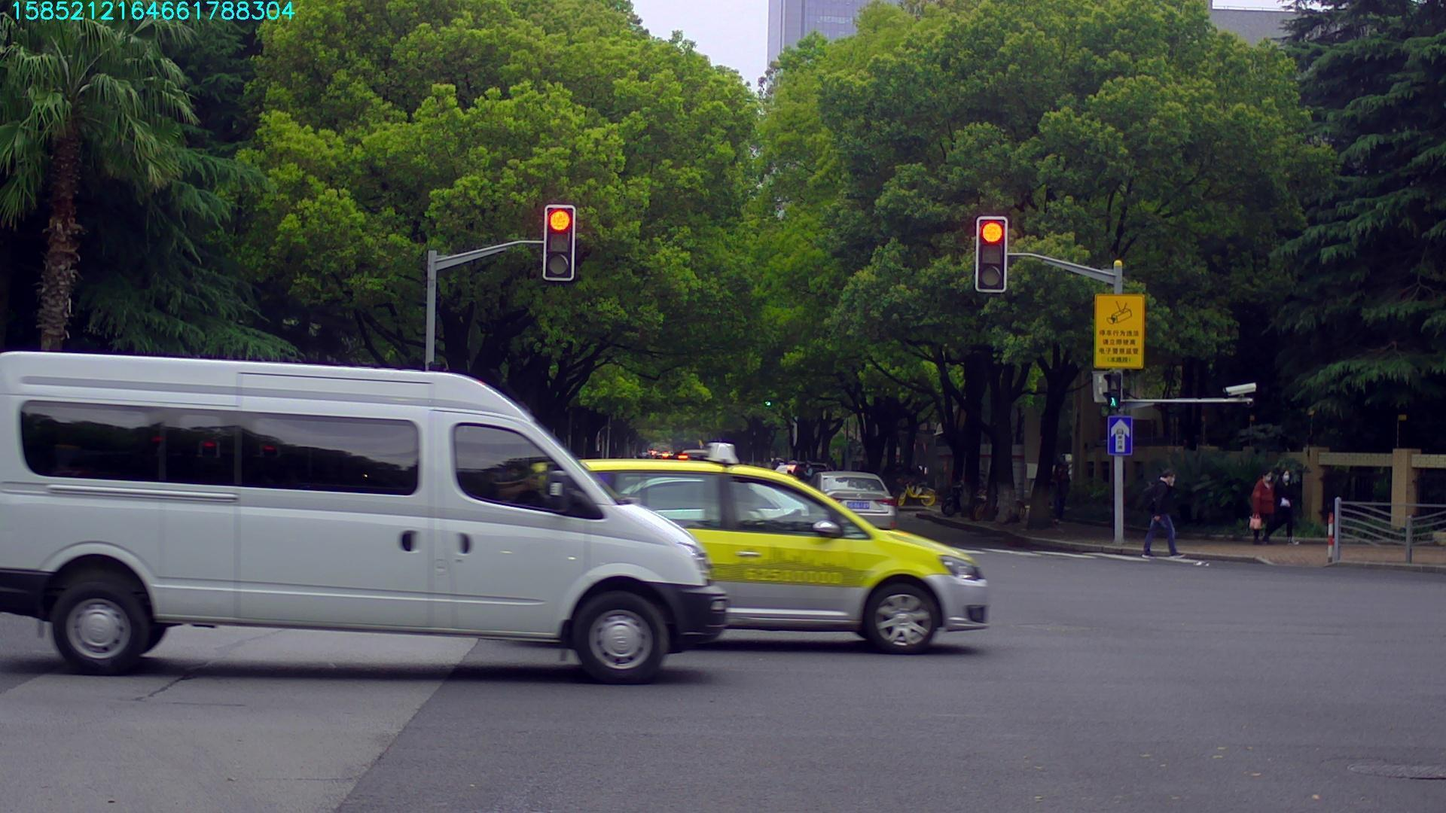red: (544, 203, 572, 279), (978, 217, 1005, 291)
